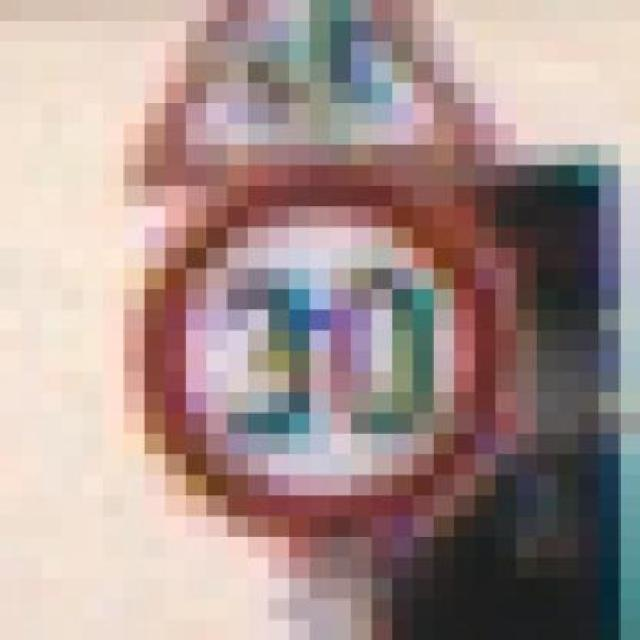forb_speed_over_30: (149, 179, 503, 539)
